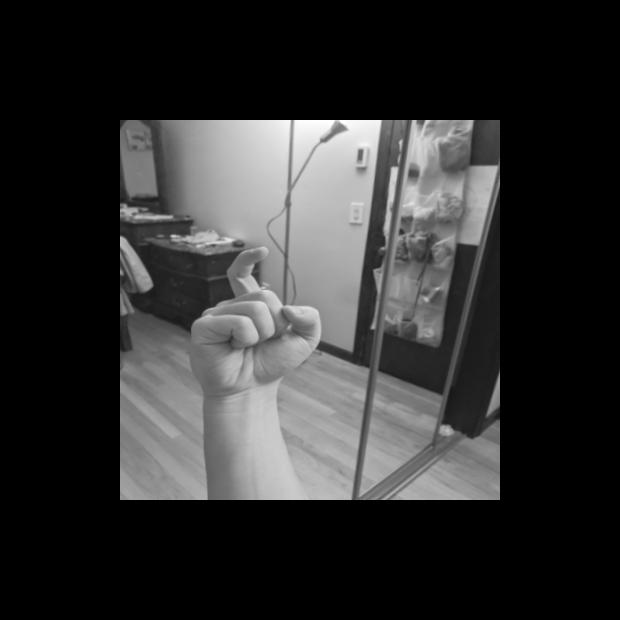W: (182, 238, 333, 404)
